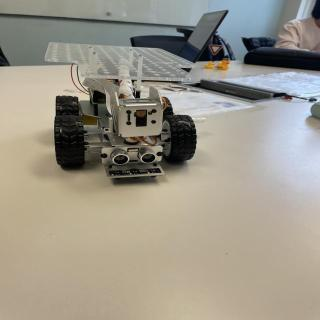vehicle: (41, 39, 199, 185)
